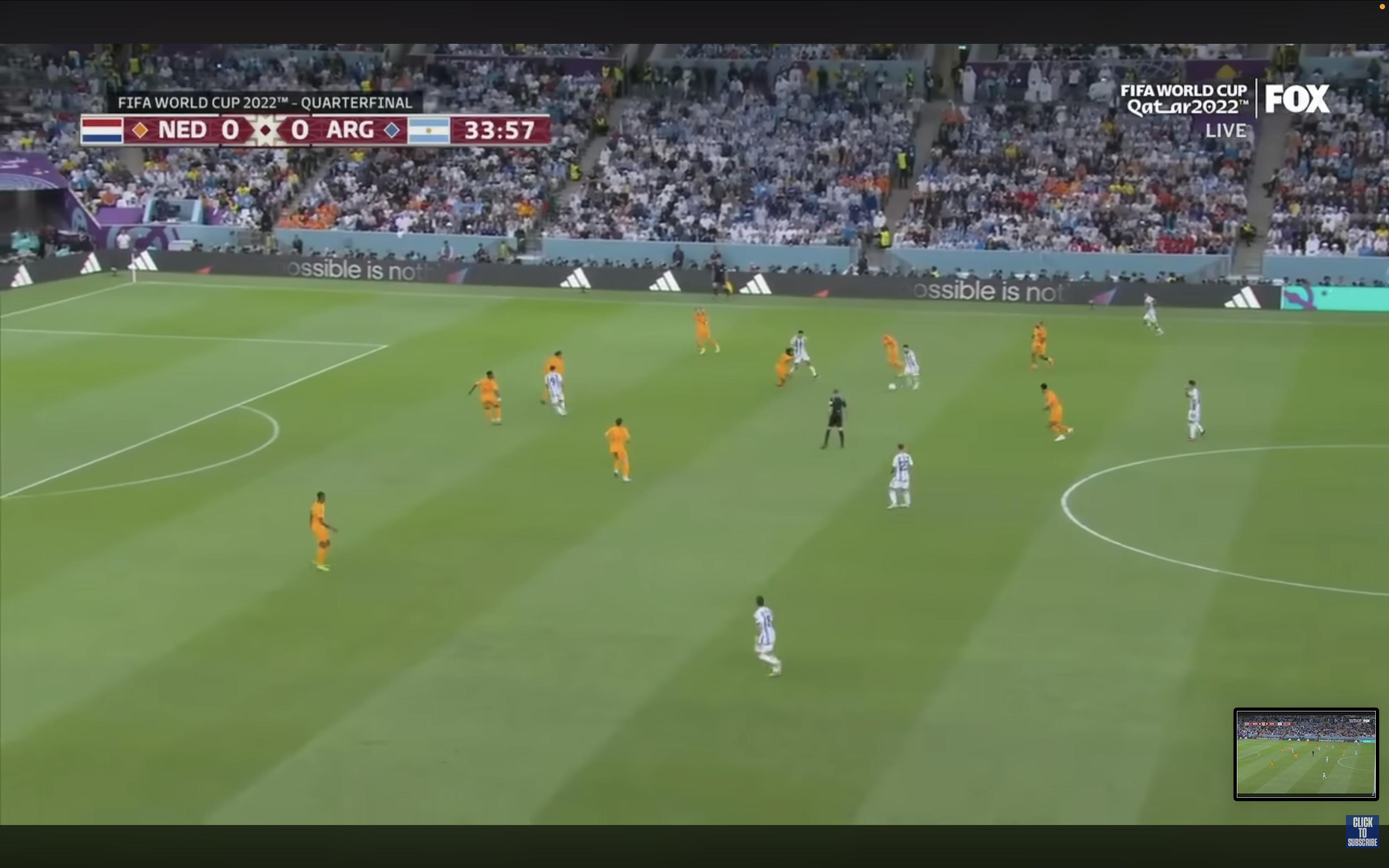ball: (888, 383, 896, 390)
player: (754, 596, 782, 676), (310, 492, 336, 571), (1041, 384, 1073, 441), (468, 371, 501, 424), (888, 444, 914, 509), (605, 418, 631, 482), (540, 351, 565, 404), (791, 330, 818, 377), (694, 308, 720, 354), (1186, 379, 1205, 441), (1031, 322, 1054, 370), (545, 367, 566, 416), (882, 333, 904, 377), (901, 345, 920, 390), (1144, 294, 1164, 336), (776, 347, 794, 387)
referee: (823, 389, 847, 449), (711, 264, 734, 298)
